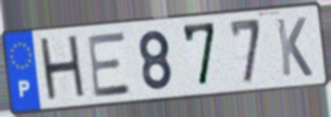7: (180, 21, 218, 91), (228, 17, 264, 87)
8: (137, 28, 175, 93)
E: (85, 29, 134, 100)
H: (37, 32, 90, 106)
K: (273, 15, 315, 79)
